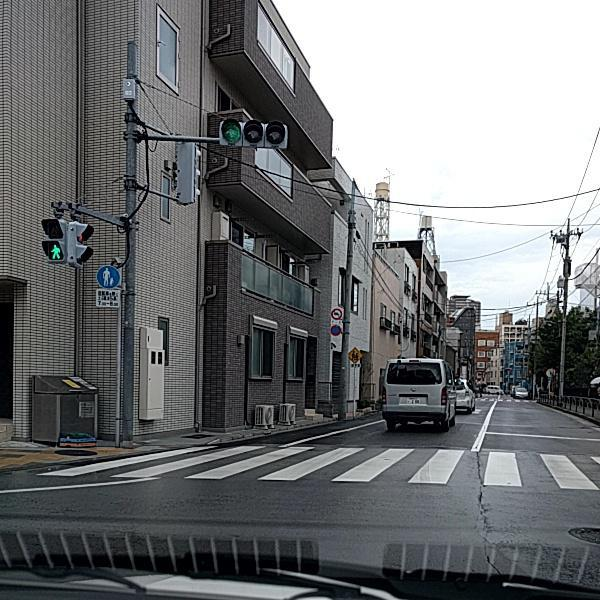D00: (454, 439, 503, 572)
D50: (568, 524, 599, 543)
